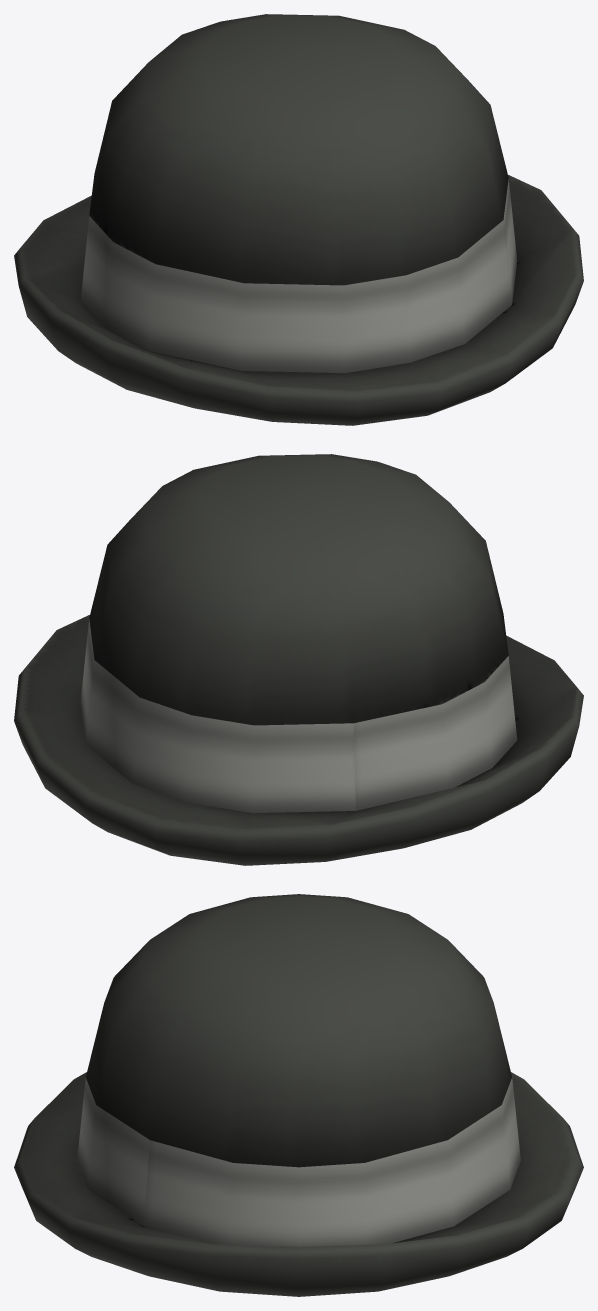
File: hat_bowler.fbx
3 renders of one model, top to bottom at view 1: azimuth 30°, elevation 25°; view 2: azimuth 150°, elevation 25°; view 3: azimuth 270°, elevation 25°, orthographic.
Parts seen in each view (by area): view 1: hat_bowler; view 2: hat_bowler; view 3: hat_bowler.
Part boxes in pixels (box(x1,y1,x2,y2)): hat_bowler: box(14, 14, 583, 425); hat_bowler: box(14, 454, 583, 865); hat_bowler: box(14, 894, 583, 1296).
Size of the model in its own units: 2.19 by 1.2 by 2.19.
